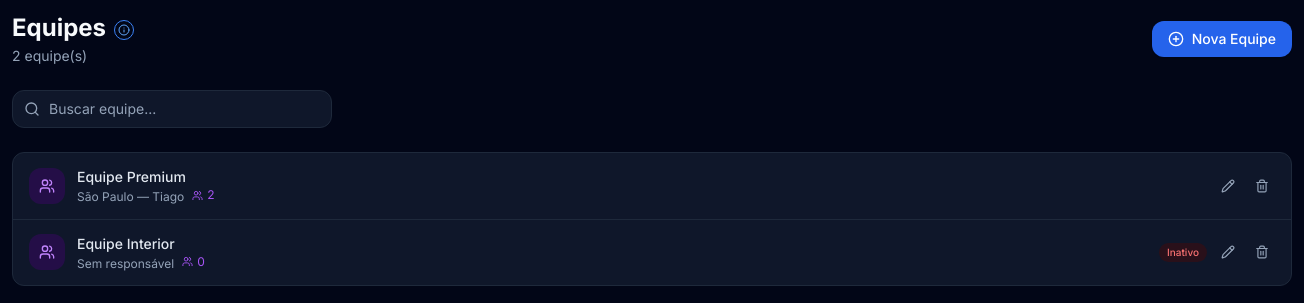
Test: EquipesPage › filtra equipes pela busca
expect the text "Equipe Premium" is shown: met, box [77, 168, 186, 185]
Type "Interior" into the field with placeholder "Buscar equipe..." at (172, 109), box [12, 90, 332, 128]
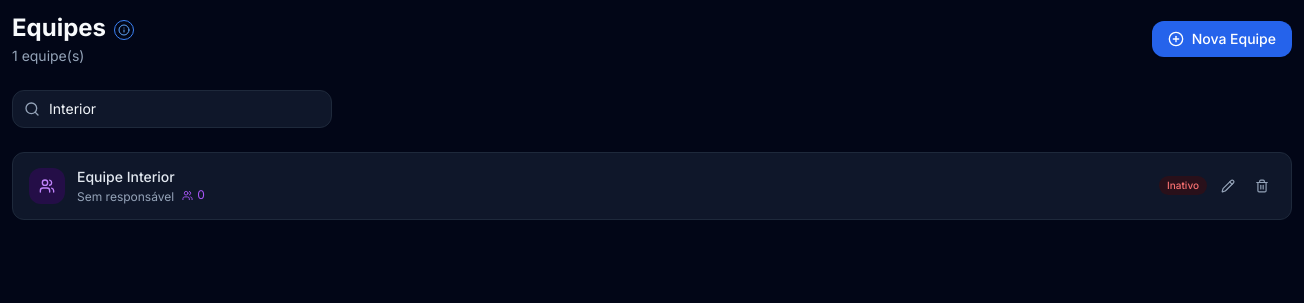
expect the text "Equipe Interior" is shown: met, box [77, 168, 175, 185]
expect the text "Equipe Premium" is gone: met
expect the text "1 equipe(s)" is shown: met, box [12, 47, 84, 64]
